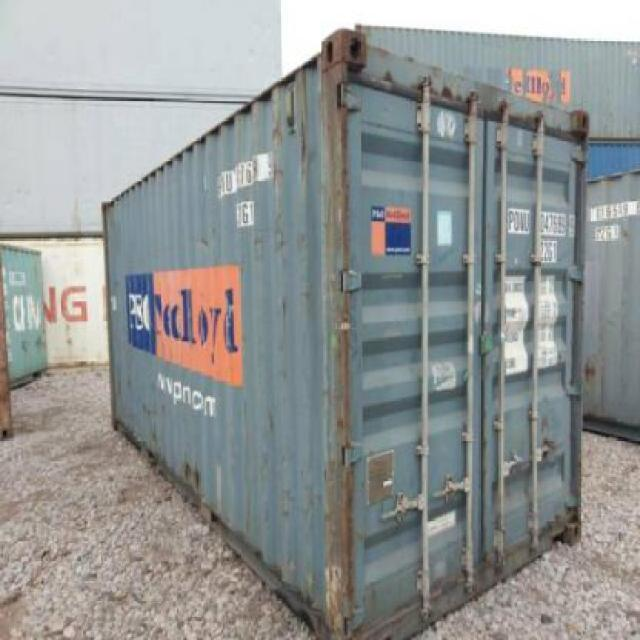ISO: (524, 239, 564, 268)
container_number: (500, 199, 586, 240)
